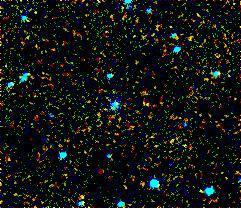star: (68, 181, 98, 208)
